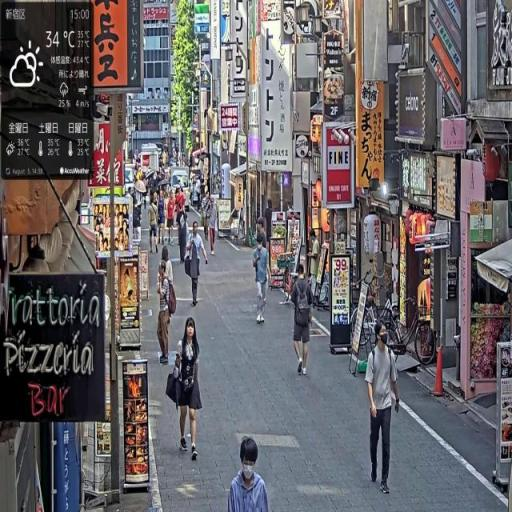person: (365, 321, 403, 499), (167, 317, 204, 462), (229, 436, 271, 512), (290, 264, 315, 376), (185, 216, 211, 313), (156, 259, 177, 367), (254, 232, 271, 327), (177, 205, 190, 266), (150, 194, 161, 257)
